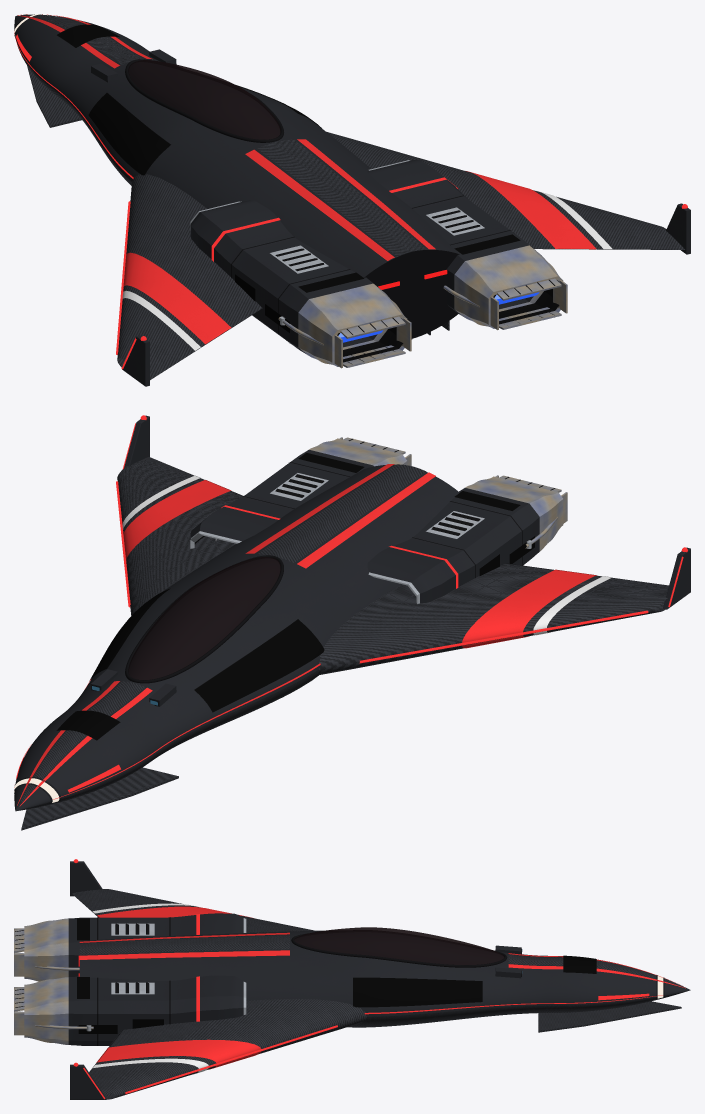
The model's file is hull_vector.glb.
3 renders of one model, top to bottom at view 1: azimuth 30°, elevation 25°; view 2: azimuth 150°, elevation 25°; view 3: azimuth 270°, elevation 25°, orthographic. The views are drawn at different scales.
Visible parts, largest first — view 1: Fuselage_Upper, Wing_L_M_Carbon, Pod_L_Cowl, Wing_R_M_Carbon, Pod_L_M_Titanium, Pod_R_M_Titanium, Canopy_Glass, Fuselage_M_Carbon, Pod_R_Cowl, Fuselage_M_Dark, Livery_WingBand_L, Decal_Sponsor_L (+13 smaller); view 2: Fuselage_Upper, Wing_L_M_Carbon, Pod_L_Cowl, Canopy_Glass, Wing_R_M_Carbon, Fuselage_M_Carbon, Pod_R_Cowl, Decal_Sponsor_L, Fuselage_M_CarbonSatin, Livery_WingBand_L, Pod_L_M_Titanium, Livery_WingBand_R (+13 smaller); view 3: Fuselage_Upper, Wing_R_M_Carbon, Pod_R_Cowl, Canopy_Glass, Fuselage_M_CarbonSatin, Fuselage_M_Carbon, Decal_Sponsor_R, Pod_R_M_Titanium, Pod_L_Cowl, Pod_L_M_Titanium, Livery_WingBand_R, Wing_L_M_Carbon (+13 smaller).
Boxes of the visible parts, x1,y1,x2,y2 form: Fuselage_Upper: (14,15,459,277); Wing_L_M_Carbon: (117,174,262,379); Pod_L_Cowl: (190,200,378,354); Wing_R_M_Carbon: (327,132,684,249); Pod_L_M_Titanium: (278,283,411,368); Pod_R_M_Titanium: (443,245,567,330); Canopy_Glass: (128,60,280,139); Fuselage_M_Carbon: (20,14,449,339); Pod_R_Cowl: (367,159,535,316); Fuselage_M_Dark: (364,250,459,338); Livery_WingBand_L: (123,252,231,344); Decal_Sponsor_L: (88,93,170,175); Fuselage_Upper: (14,464,459,811); Wing_L_M_Carbon: (318,563,668,675); Pod_L_Cowl: (367,488,539,603); Canopy_Glass: (128,557,280,679); Wing_R_M_Carbon: (117,457,242,615); Fuselage_M_Carbon: (20,464,426,801); Pod_R_Cowl: (190,450,373,541); Decal_Sponsor_L: (194,619,324,712); Fuselage_M_CarbonSatin: (16,669,318,830); Livery_WingBand_L: (462,569,596,648); Pod_L_M_Titanium: (465,475,567,551); Livery_WingBand_R: (123,480,231,560); Fuselage_Upper: (79,930,690,1016); Wing_R_M_Carbon: (89,999,366,1099); Pod_R_Cowl: (68,975,243,1045); Canopy_Glass: (294,927,504,964); Fuselage_M_CarbonSatin: (347,990,689,1032); Fuselage_M_Carbon: (79,935,681,986); Decal_Sponsor_R: (353,977,482,1007); Pod_R_M_Titanium: (14,977,93,1044); Pod_L_Cowl: (68,913,243,976); Pod_L_M_Titanium: (14,918,79,981); Livery_WingBand_R: (96,1039,260,1069); Wing_L_M_Carbon: (72,889,313,932).
Bounding box in the file's own units: 5.27 × 1.02 × 7.31.
36 materials, 7 textured.
